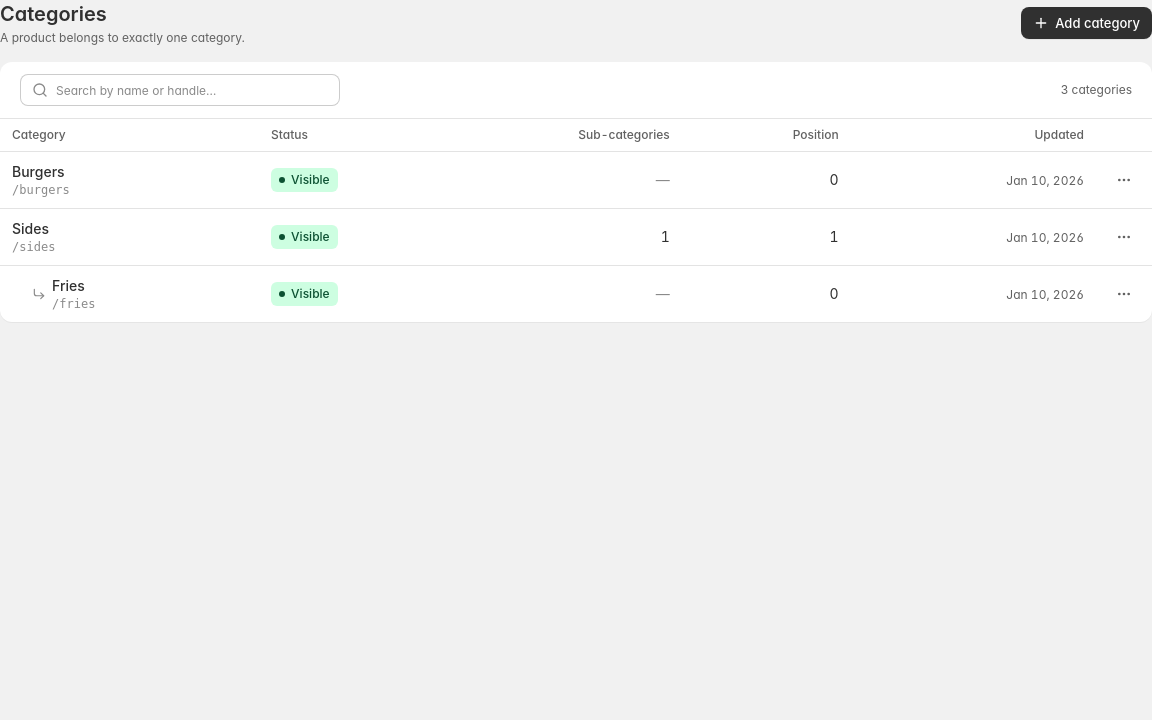
Test: archiving a category › reports the server’s refusal when products still point at the category
The image size is (1152, 720).
Click the button named "Actions for Burgers" at {"x": 1124, "y": 180}, box [1108,164,1140,196]
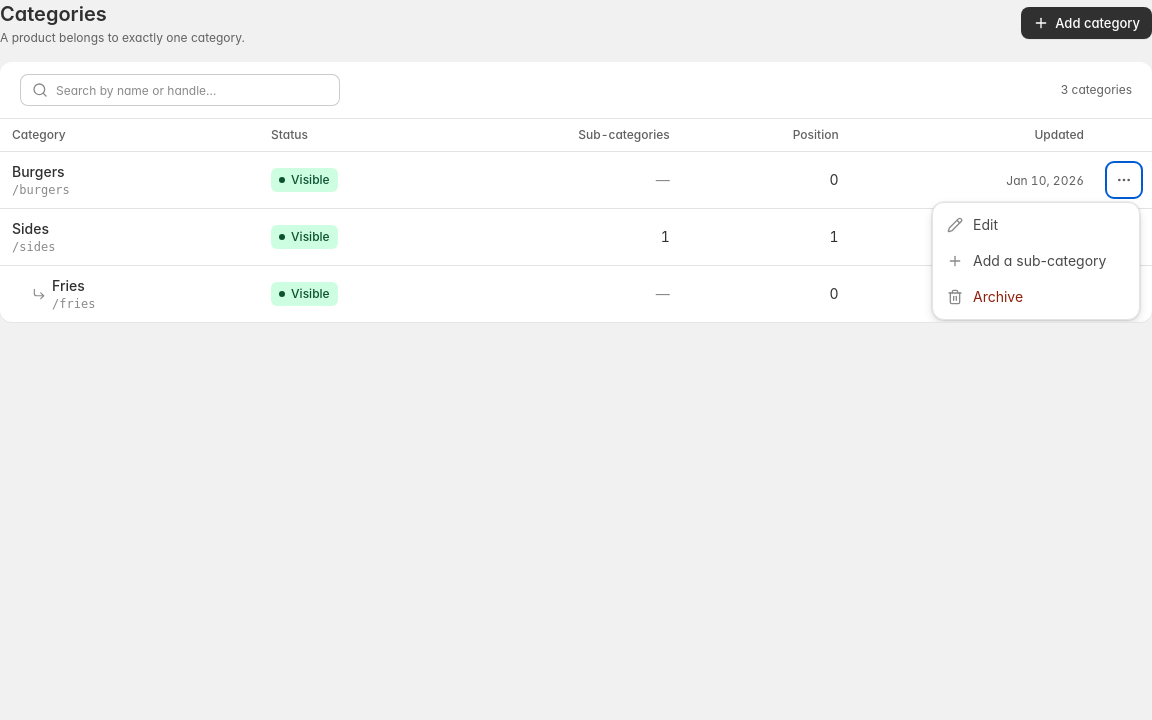
Click the menu item "Archive" at {"x": 1036, "y": 297}, box [937,279,1135,315]
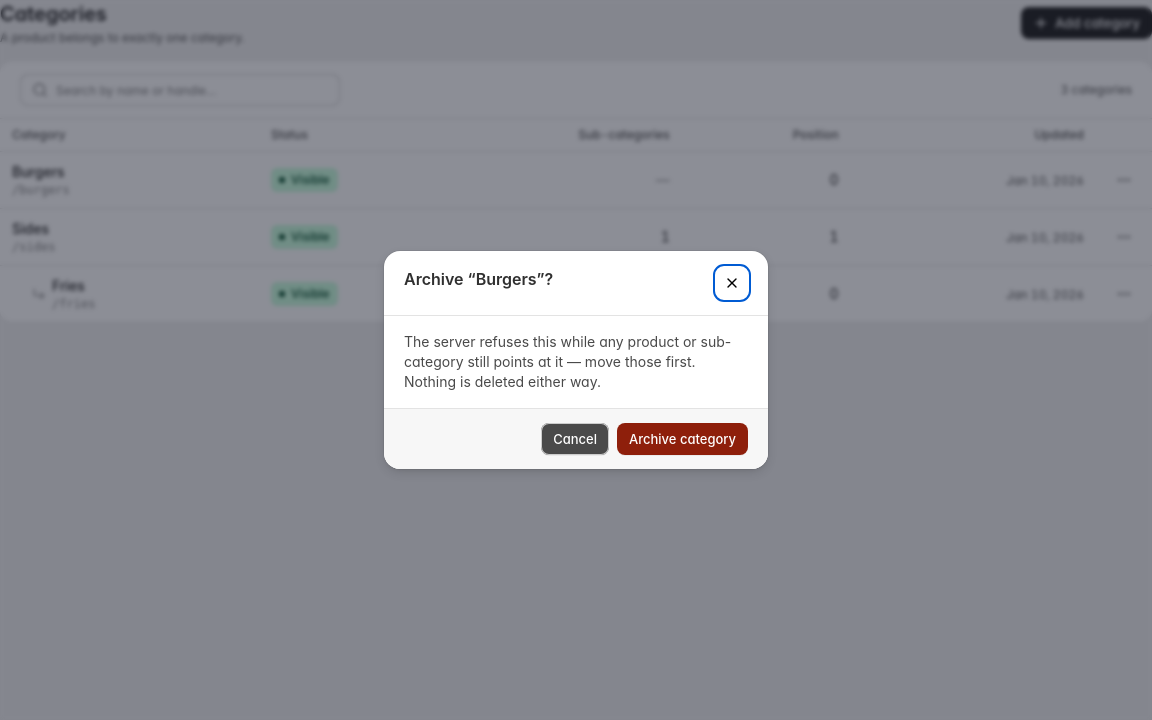
Click the button "Archive category" at {"x": 682, "y": 439}, box [617,423,748,455]
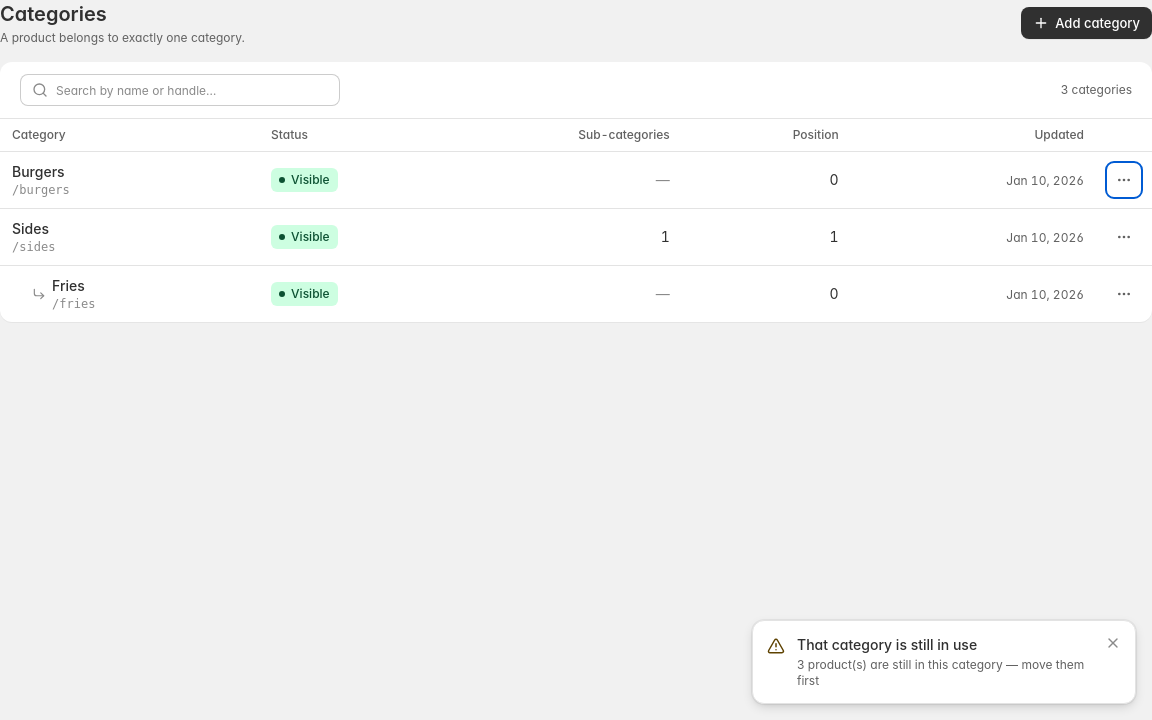
Expected: the text "Burgers" is shown, [12,162,70,182]
Now the text "That category is still in use" is shown, box [797,636,977,653]
Now the text "3 product(s) are still in this category — move them first" is shown, box [797,657,1093,689]
